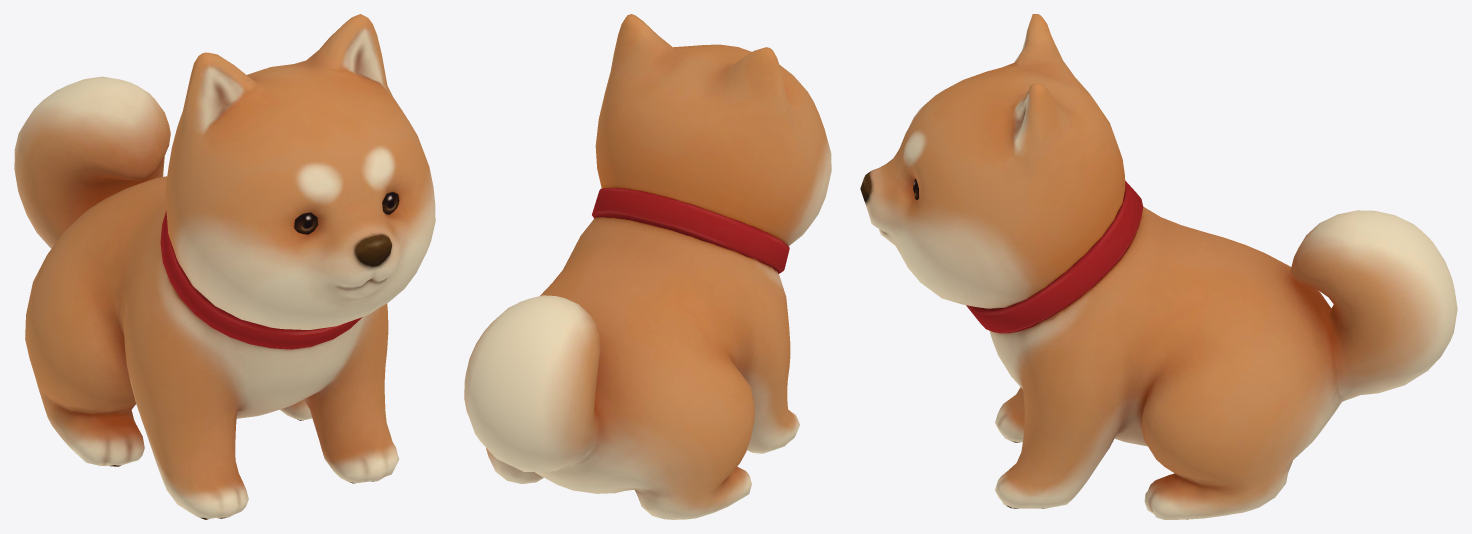
The model's file is shiba.glb.
3 renders of one model, left to right at view 1: azimuth 30°, elevation 25°; view 2: azimuth 150°, elevation 25°; view 3: azimuth 270°, elevation 25°, orthographic. The views are drawn at different scales.
Parts seen in each view (by area): view 1: Box002, Group18985, Object001_default_0; view 2: Box002, Group18985; view 3: Box002, Group18985.
Part boxes in pixels (bbox=[...]): Box002: bbox=[14, 14, 435, 519]; Group18985: bbox=[160, 211, 362, 349]; Object001_default_0: bbox=[294, 192, 399, 234]; Box002: bbox=[464, 14, 831, 519]; Group18985: bbox=[592, 188, 789, 273]; Box002: bbox=[860, 14, 1457, 519]; Group18985: bbox=[966, 181, 1143, 333].
Size of the model in its own units: 0.9209 by 1.38 by 1.77.
1 material, 1 textured.
